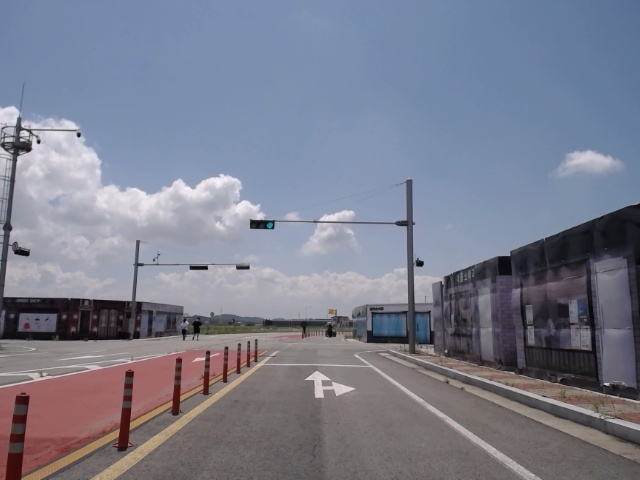green_3: (249, 220, 275, 230)
